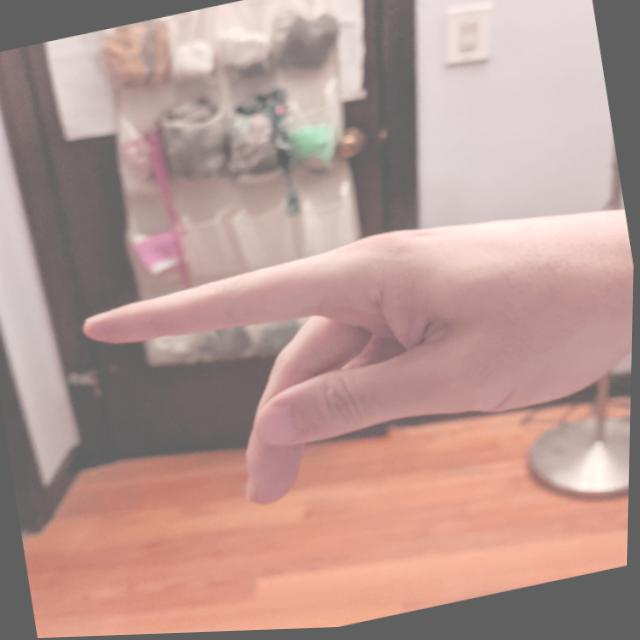P: (62, 173, 636, 552)
